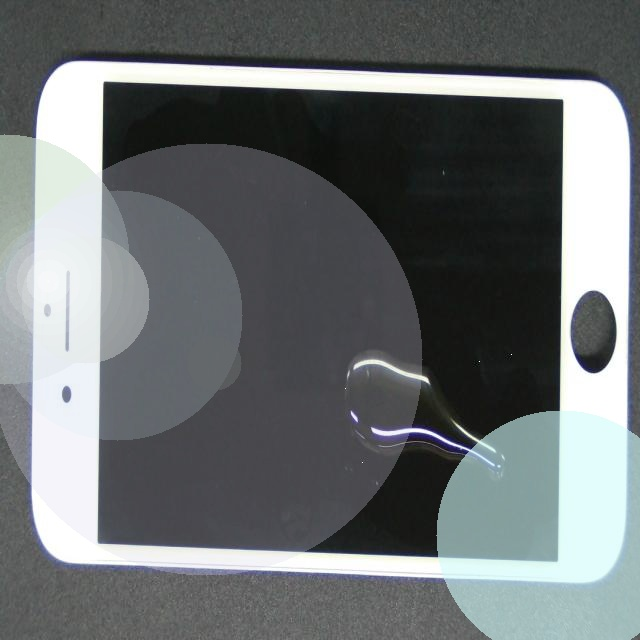oil: (288, 248, 640, 633)
